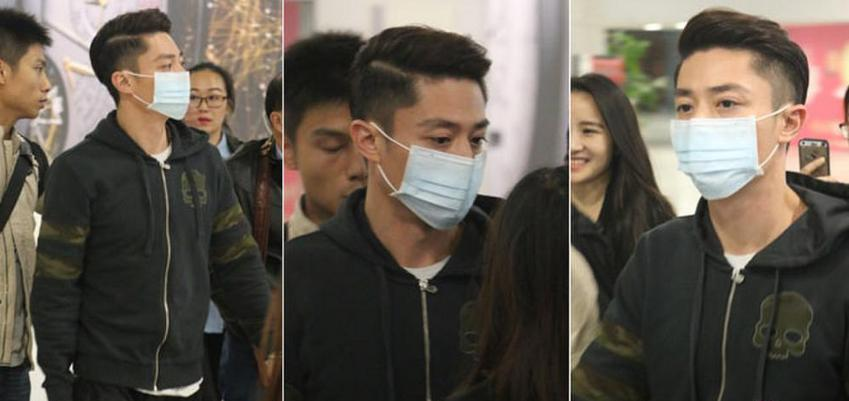mask: (384, 143, 488, 230), (671, 115, 766, 204), (141, 71, 192, 123)
